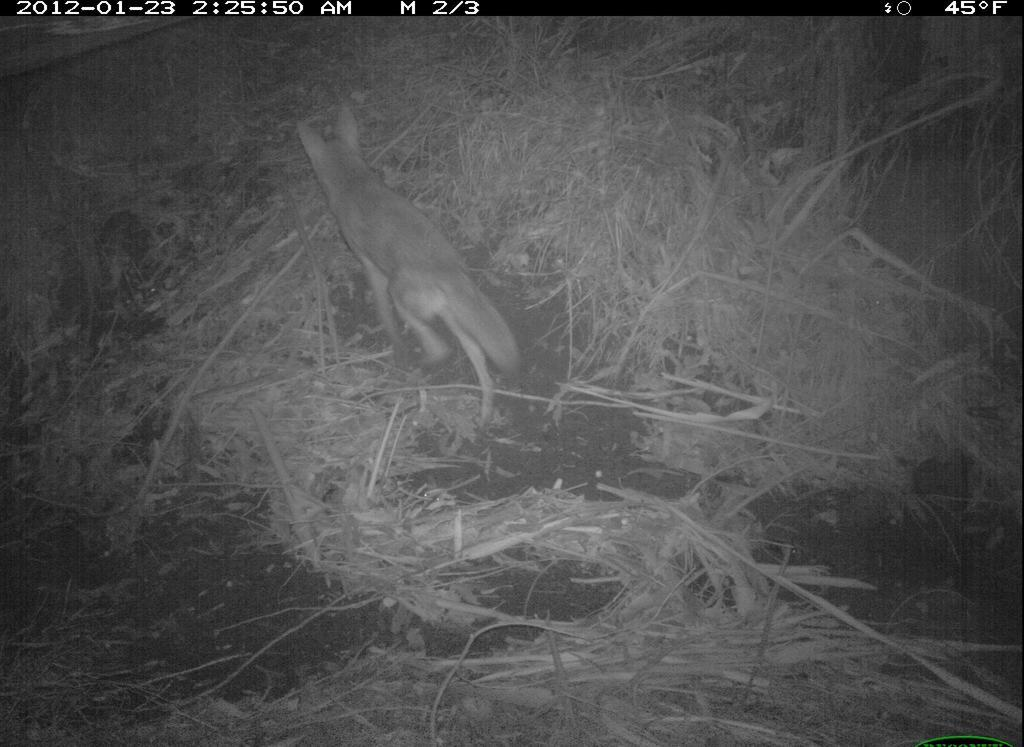coyote: (291, 104, 525, 429)
